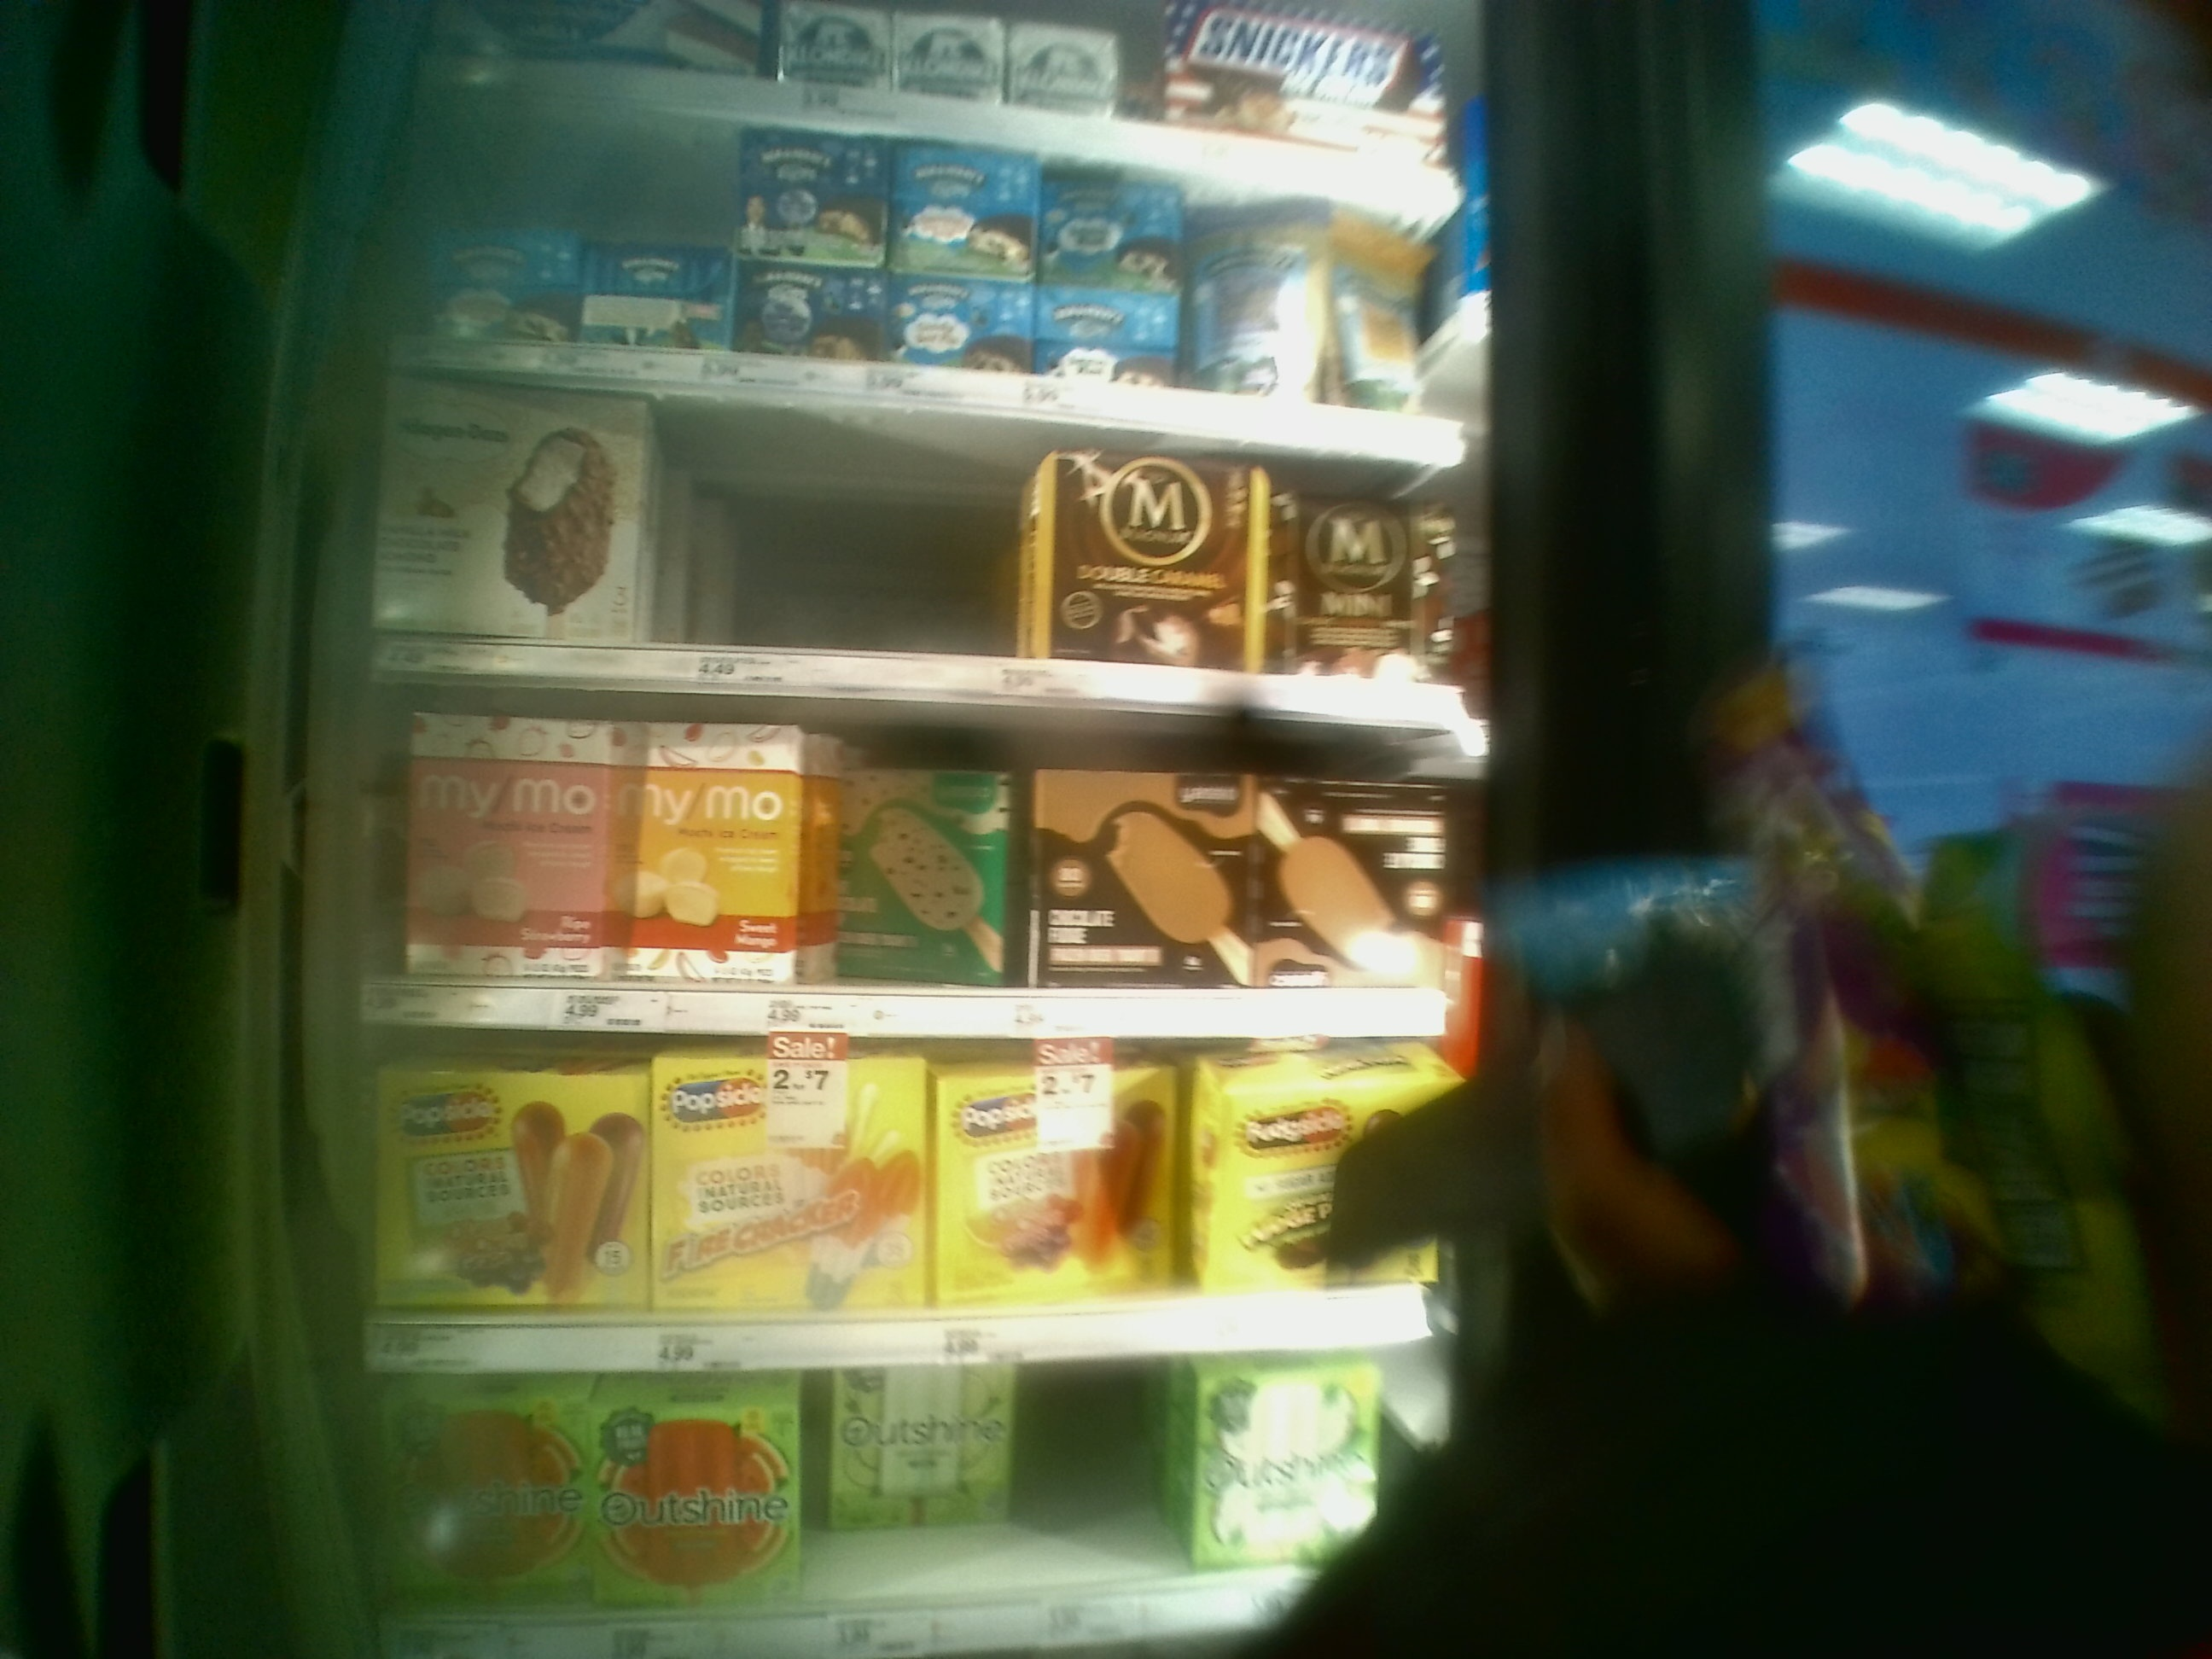ice-cream-shelf: (369, 678, 1446, 1030), (371, 1033, 1447, 1364)
